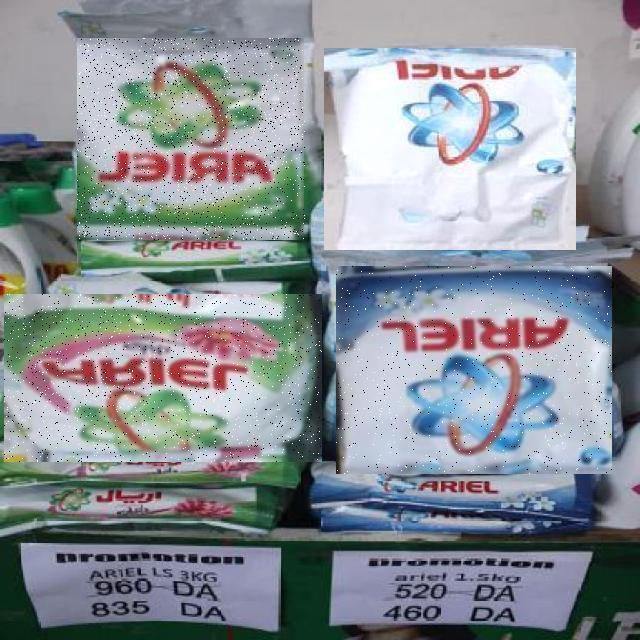Detergent: (336, 266, 612, 474), (4, 295, 322, 463), (324, 48, 576, 250), (78, 38, 306, 240)
